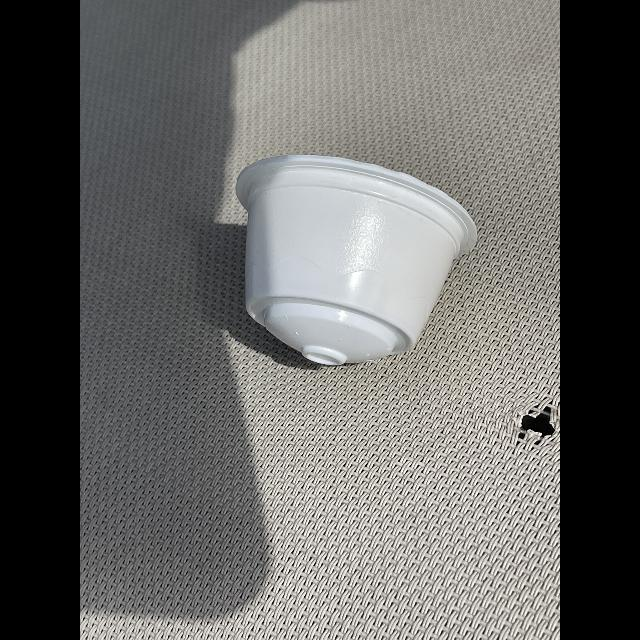intact_capsule: (223, 140, 491, 378)
